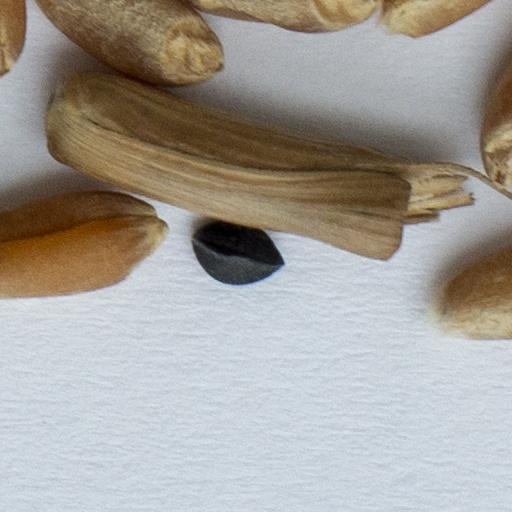Fallopia-Convolvulus-poly: (194, 221, 283, 284)
